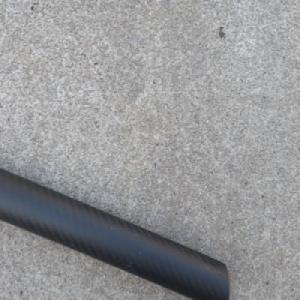LuggagePart: (0, 165, 232, 300)
